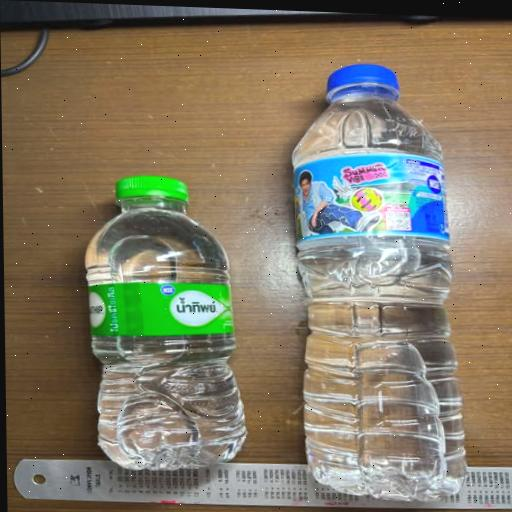bottle: (263, 49, 499, 511), (40, 156, 281, 475)
